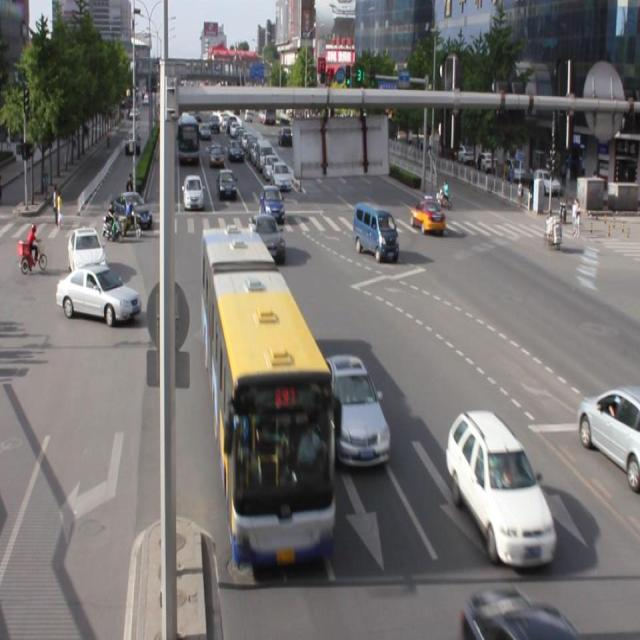car: (446, 408, 556, 565), (324, 354, 389, 466), (576, 386, 640, 492), (55, 260, 142, 324), (248, 210, 287, 262), (409, 197, 444, 234)
truck: (352, 201, 397, 260)
van: (203, 229, 333, 563)
